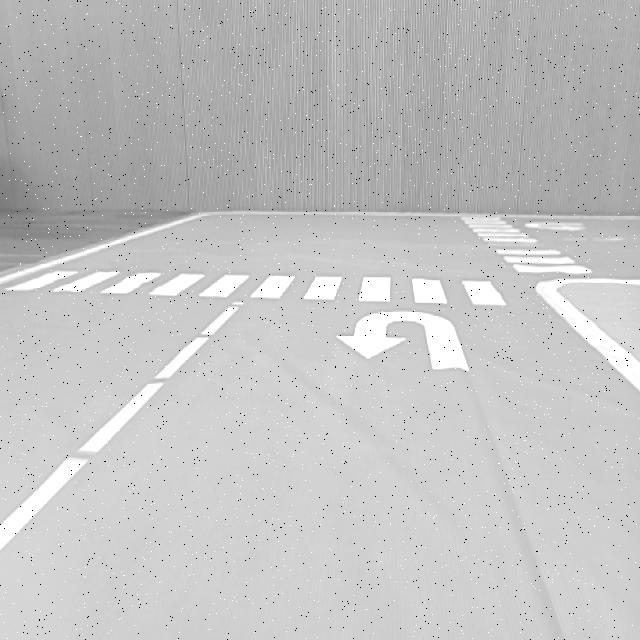left_lane: (0, 301, 246, 550)
right_lane: (534, 288, 640, 396)
